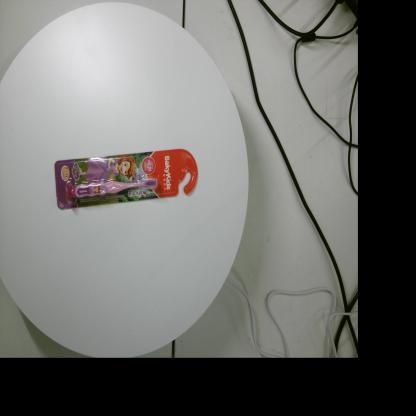Personal Hygiene: (54, 148, 198, 210)
